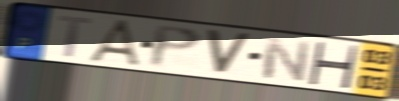A: (85, 18, 146, 69)
H: (305, 40, 362, 91)
N: (260, 35, 313, 84)
P: (148, 23, 204, 70)
T: (55, 13, 95, 60)
V: (204, 28, 254, 77)
